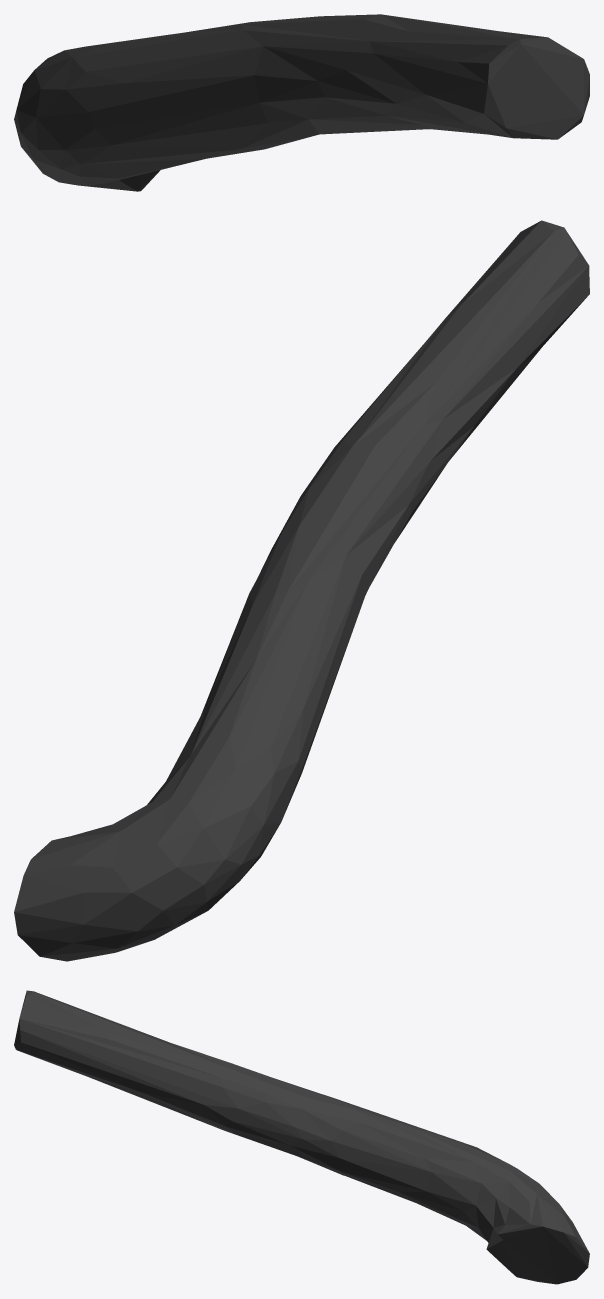
File: Phrenicoabd_vv_R.glb
The picture shows the model from 3 angles, top to bottom: view 1: azimuth 30°, elevation 25°; view 2: azimuth 150°, elevation 25°; view 3: azimuth 270°, elevation 25°; orthographic projection. The views are drawn at different scales.
Visible parts, largest first — view 1: Phrenicoabd_vv_R; view 2: Phrenicoabd_vv_R; view 3: Phrenicoabd_vv_R.
Boxes of the visible parts, x1,y1,x2,y2 form: Phrenicoabd_vv_R: (14, 14, 589, 191); Phrenicoabd_vv_R: (14, 220, 589, 961); Phrenicoabd_vv_R: (14, 990, 589, 1284).
Bounding box in the file's own units: 0.0418 × 0.1068 × 0.2037.
1 material, 1 textured.
